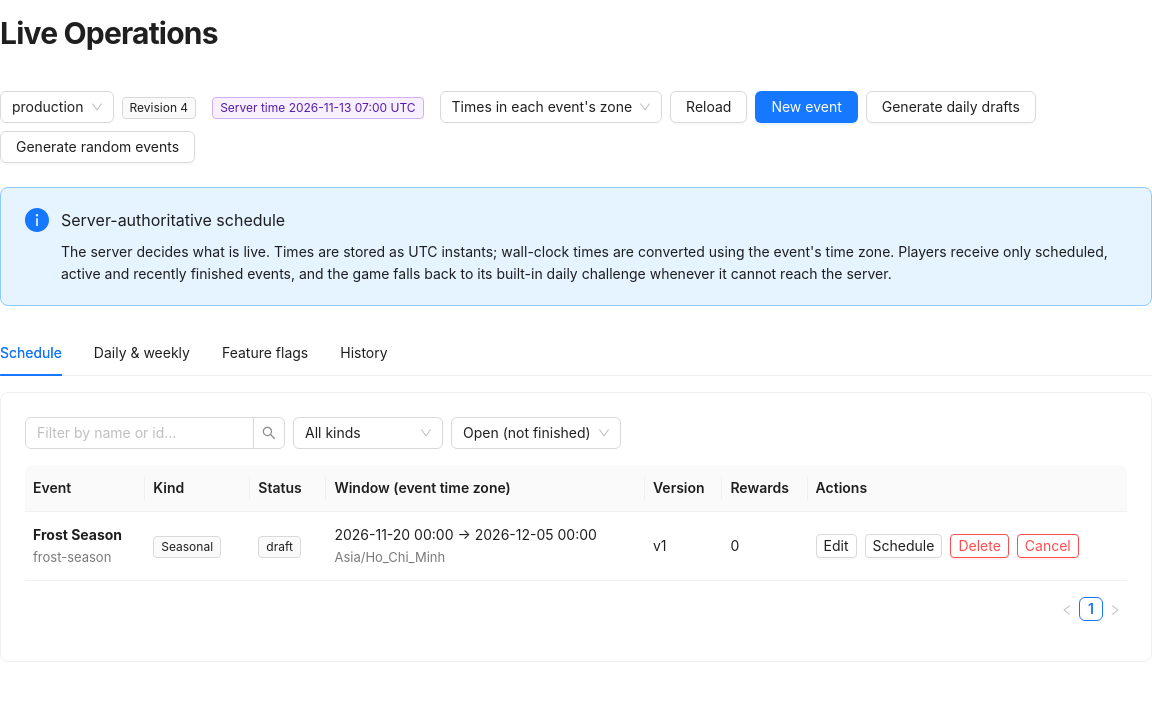
Test: scheduling asks for confirmation and sends the loaded revision; the answer replaces the screen
The image size is (1152, 720).
Click the button with aria-label "Schedule frost-season" at (903, 546), box [864, 534, 942, 558]
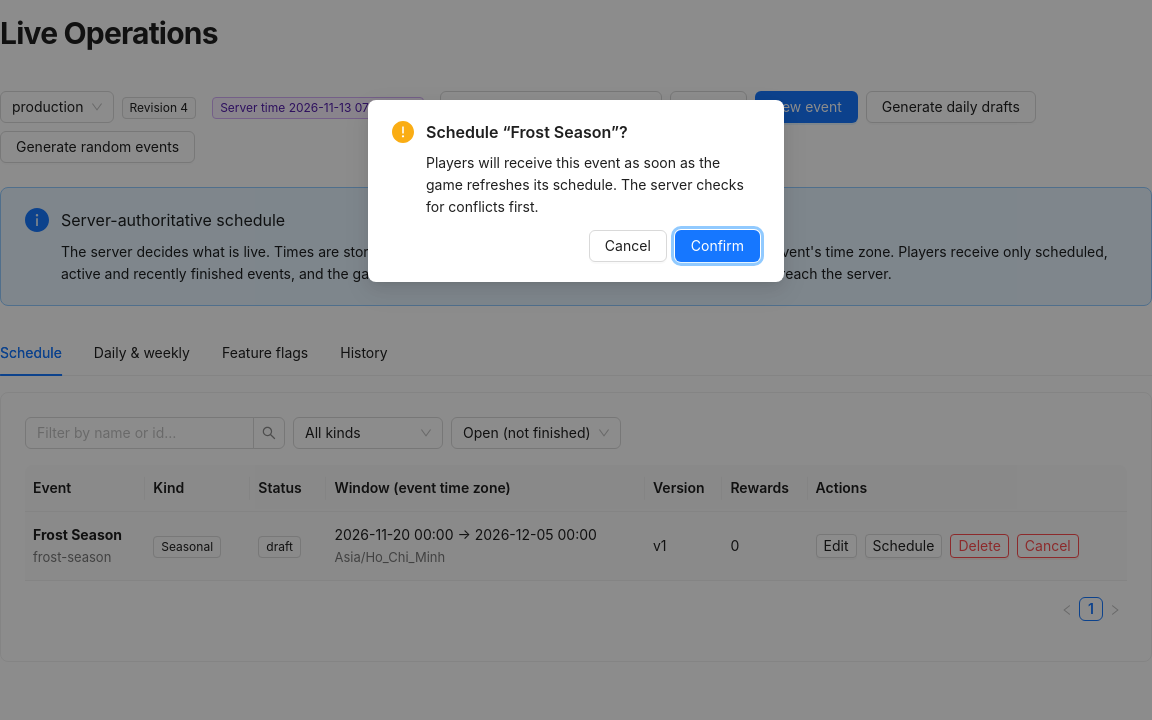
Click the button "Confirm" at (717, 246), box [675, 230, 760, 262]
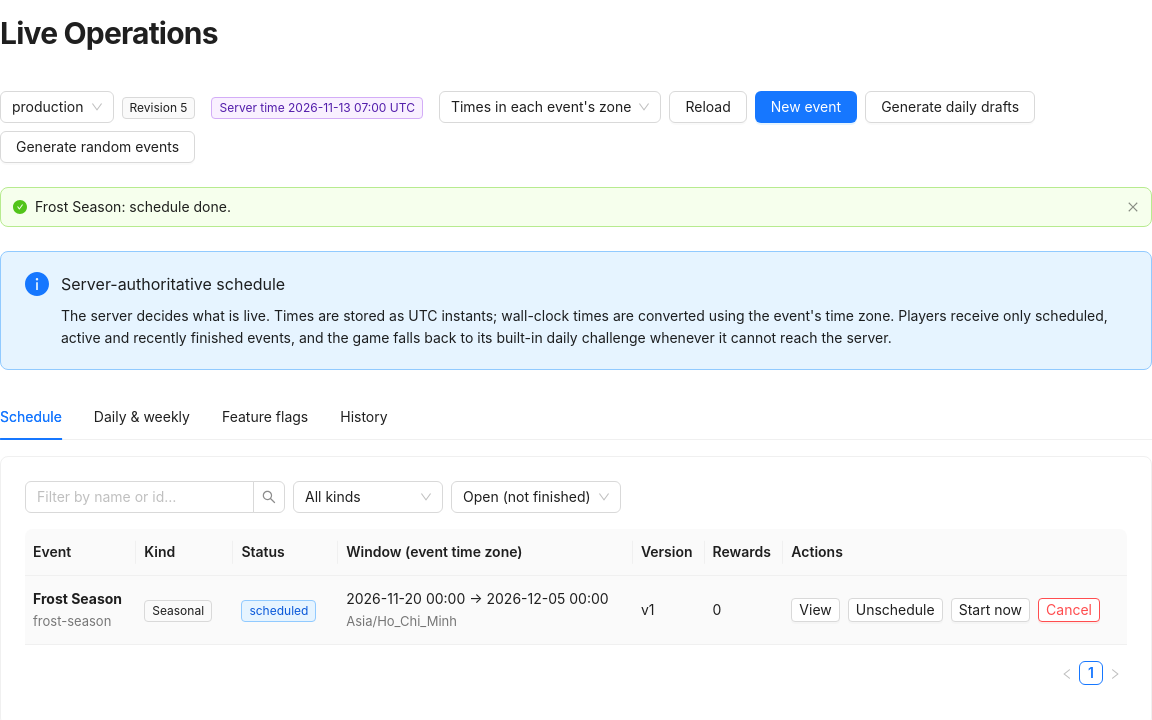
Check: the text "Revision 5" is shown, box [122, 97, 196, 119]
Check: the text "Frost Season: schedule done." is shown, box [35, 198, 231, 215]
Check: the text "scheduled" is shown, box [241, 600, 316, 622]
